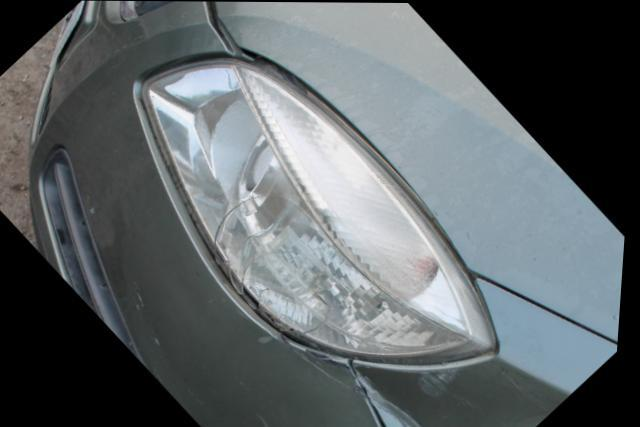dent: (358, 356, 576, 427)
lamp broken: (142, 56, 503, 370)
